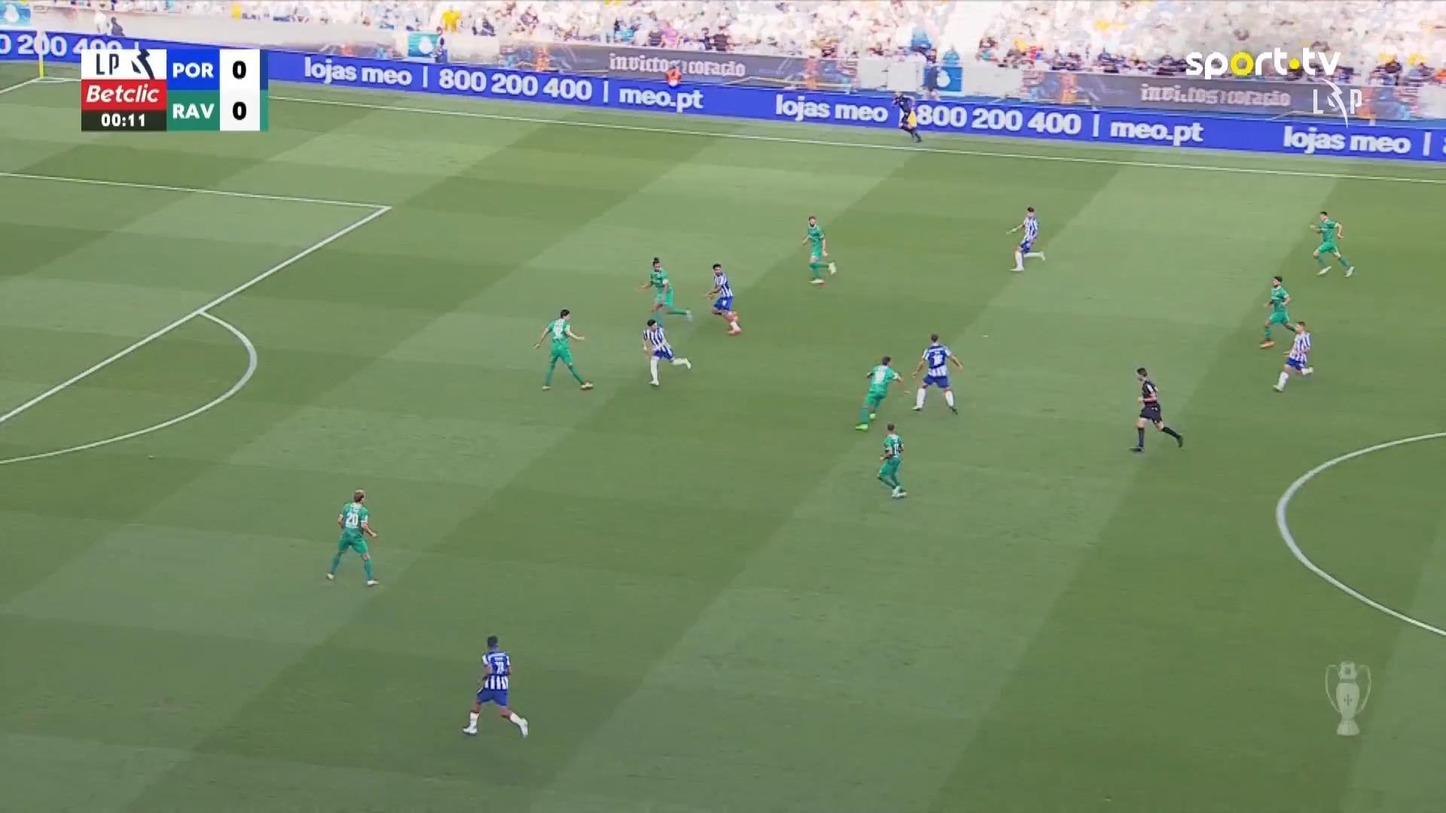goalkeeper: (1129, 366, 1183, 452)
player: (461, 635, 529, 738), (325, 488, 380, 586), (532, 307, 593, 391), (910, 332, 962, 414), (853, 355, 907, 430), (637, 256, 692, 322), (640, 318, 691, 385), (1309, 209, 1355, 277), (1271, 320, 1313, 391), (703, 262, 741, 335), (1258, 275, 1295, 348), (1005, 206, 1045, 272), (800, 215, 836, 284), (876, 422, 907, 498)
referee: (891, 90, 923, 142)
